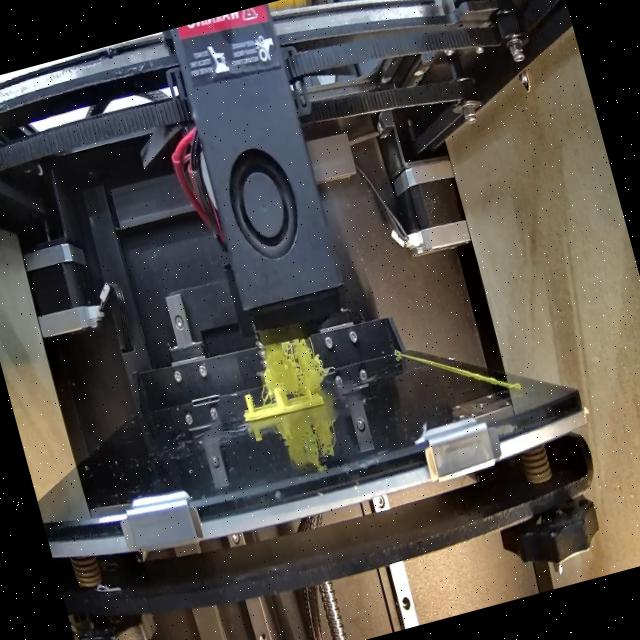spaghetti: (251, 324, 334, 403)
